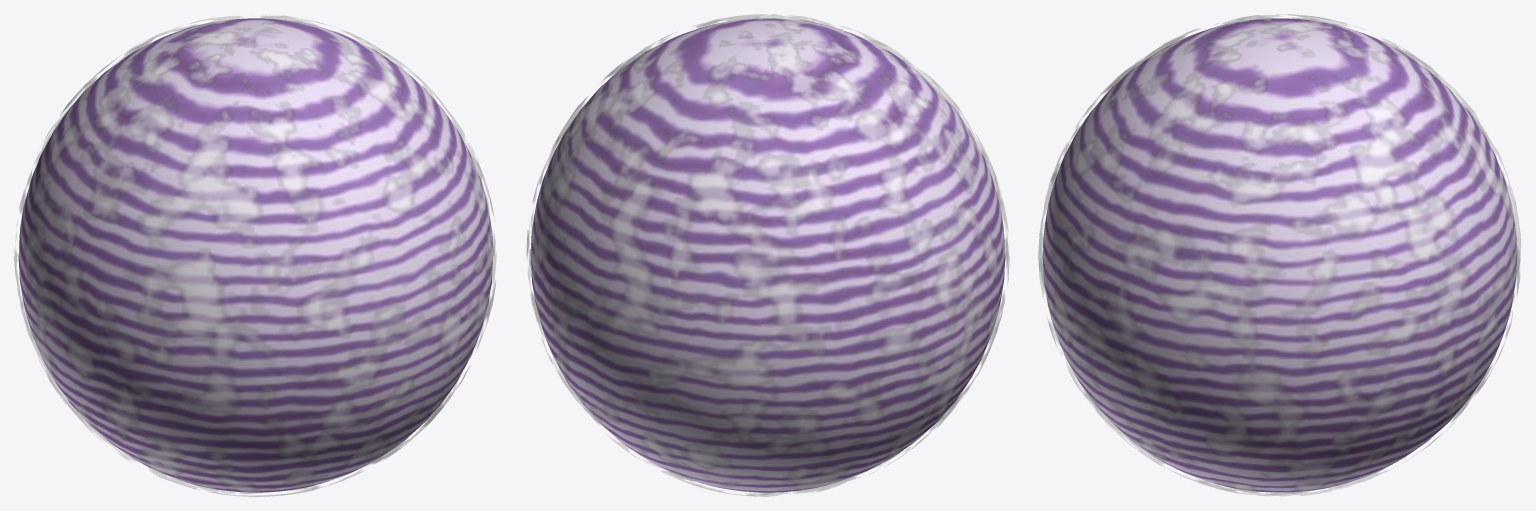
The model's file is planet_gas_000.glb.
3 views of the same model, side by side, from view 1: azimuth 30°, elevation 25°; view 2: azimuth 150°, elevation 25°; view 3: azimuth 270°, elevation 25° (orthographic).
Visible parts, largest first — view 1: Planet_gas_000, Clouds_gas_000; view 2: Planet_gas_000, Clouds_gas_000; view 3: Planet_gas_000, Clouds_gas_000.
Boxes of the visible parts, x1,y1,x2,y2 form: Planet_gas_000: [18, 18, 493, 492]; Clouds_gas_000: [14, 15, 496, 496]; Planet_gas_000: [530, 18, 1005, 492]; Clouds_gas_000: [526, 14, 1009, 496]; Planet_gas_000: [1042, 18, 1517, 492]; Clouds_gas_000: [1038, 14, 1520, 495].
Bounding box in the file's own units: 2.04 × 2.04 × 2.04.
Materials: 2 (2 with a texture image).
